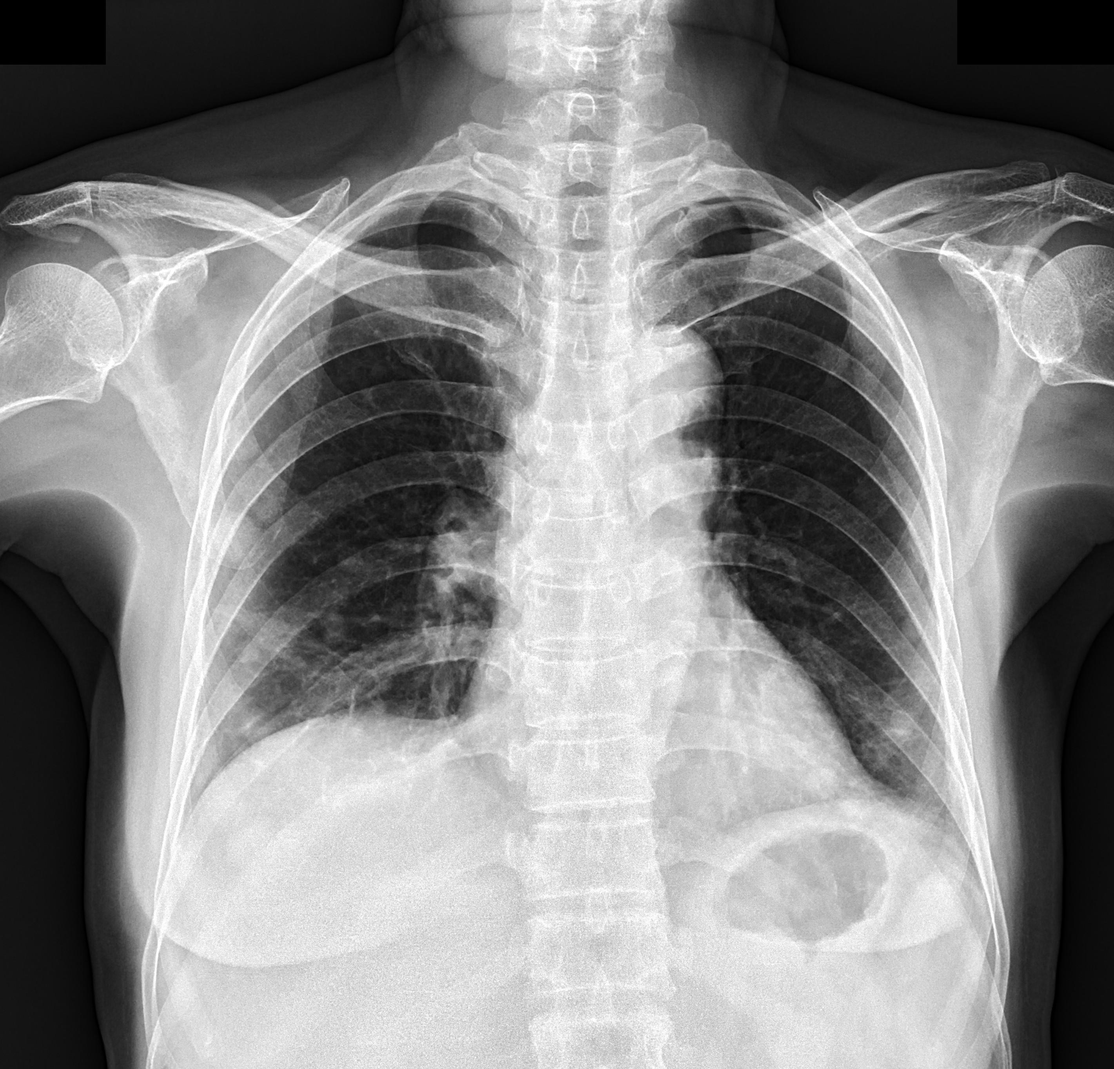Aortic enlargement: (614, 324, 717, 440)
